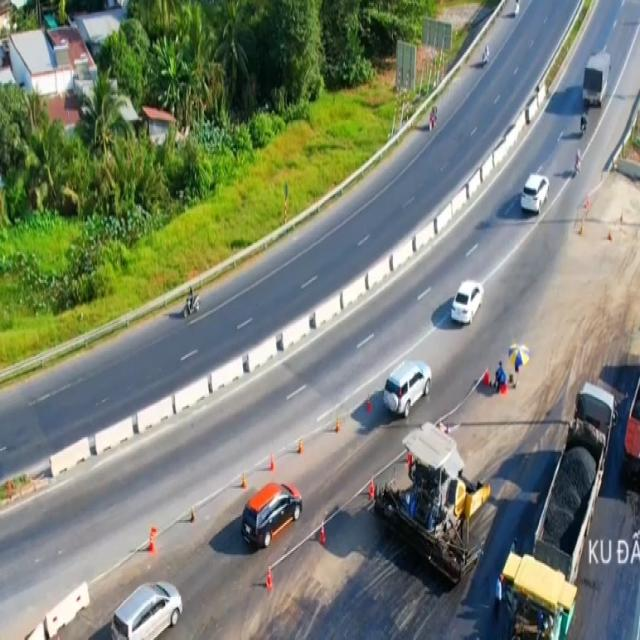car: (114, 580, 182, 640), (243, 481, 302, 548), (385, 361, 431, 416), (452, 277, 483, 321), (521, 170, 551, 214)
motorbike: (184, 284, 198, 318)
truck: (584, 52, 610, 108)
